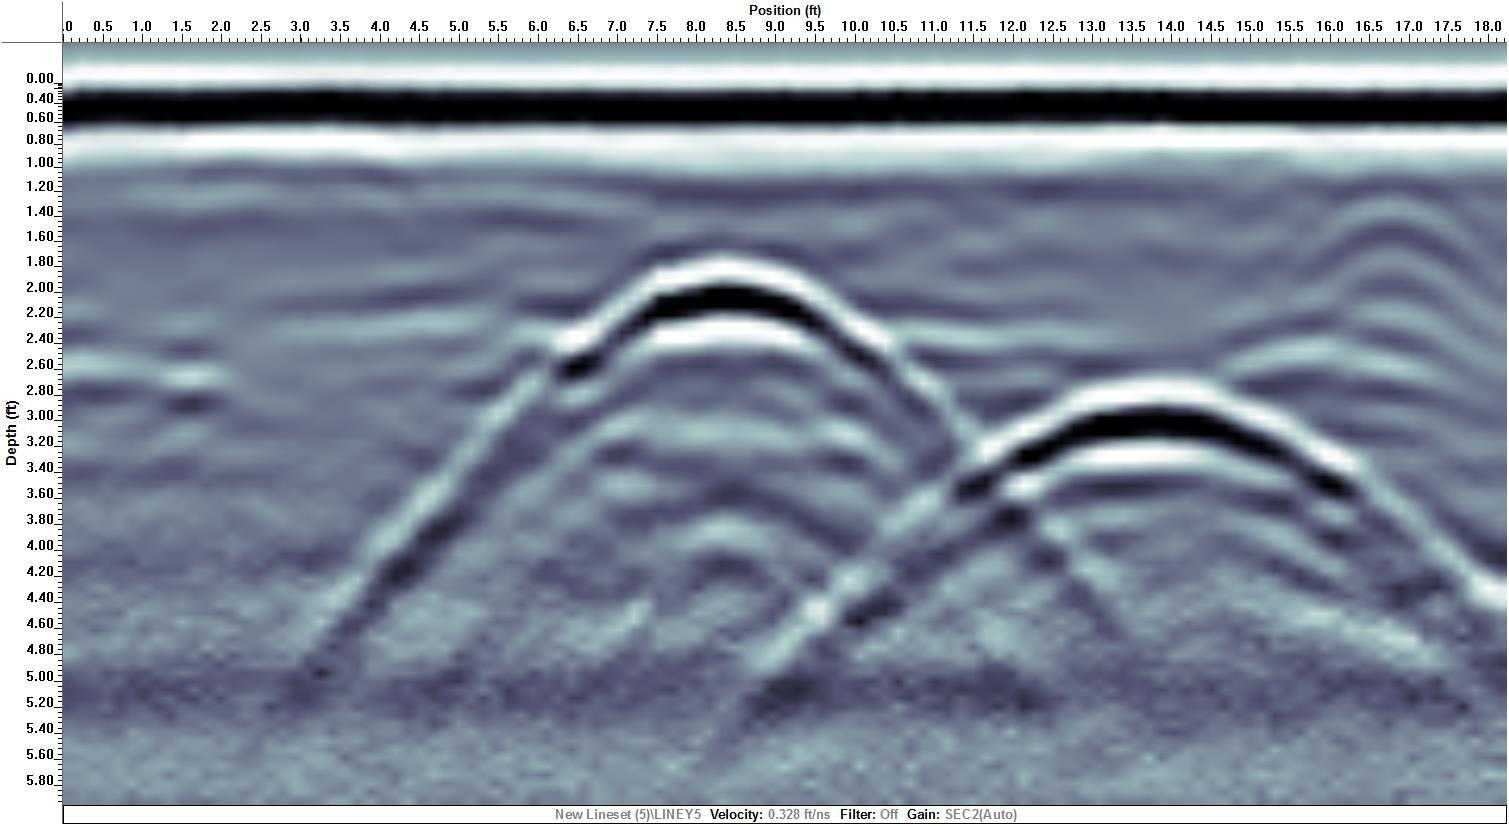hyperbola: (920, 344, 1411, 585), (519, 228, 933, 421)
